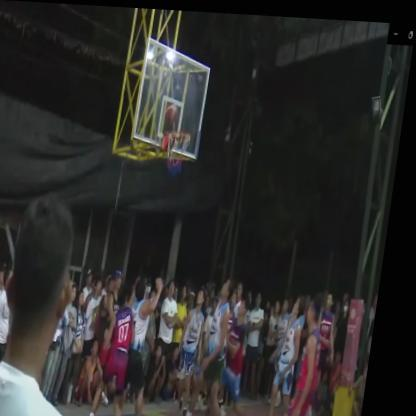basketball: (164, 95, 186, 129)
rim: (162, 121, 198, 179)
